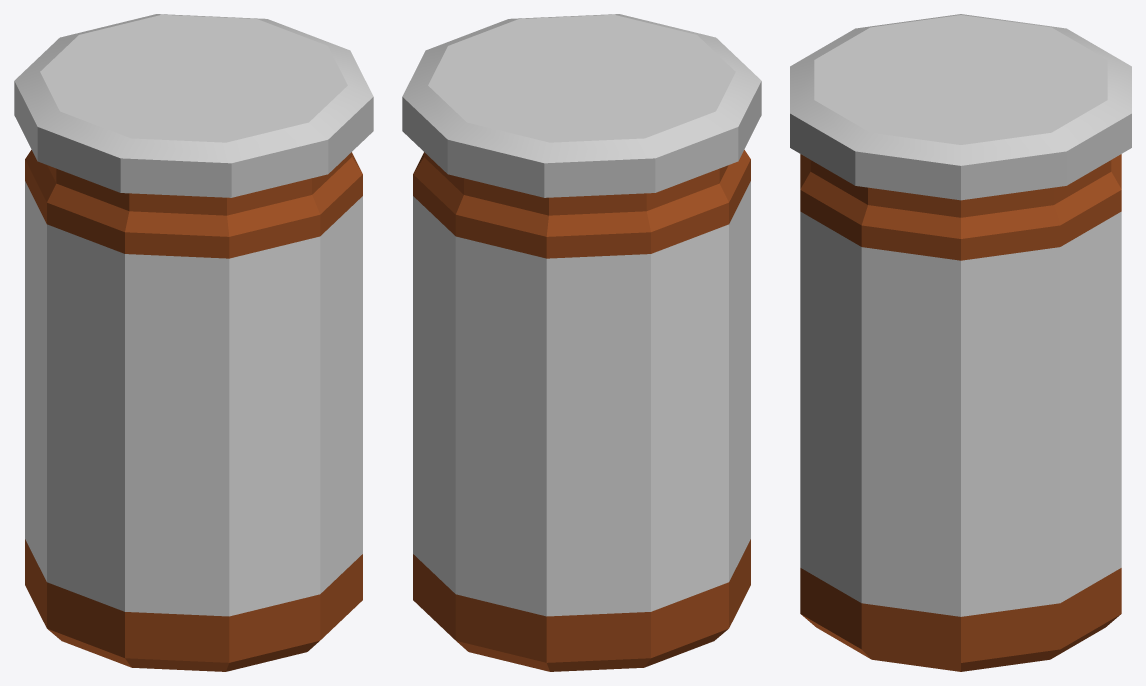
File: jar_white.fbx
3 views of the same model, side by side, from view 1: azimuth 30°, elevation 25°; view 2: azimuth 150°, elevation 25°; view 3: azimuth 270°, elevation 25° (orthographic).
Parts seen in each view (by area): view 1: jar_white18; view 2: jar_white18; view 3: jar_white18.
Boxes of the visible parts, bbox=[...] form: jar_white18: bbox=[14, 14, 373, 671]; jar_white18: bbox=[402, 14, 761, 671]; jar_white18: bbox=[790, 14, 1131, 671].
Size of the model in its own units: 0.1174 by 0.1902 by 0.1117.
